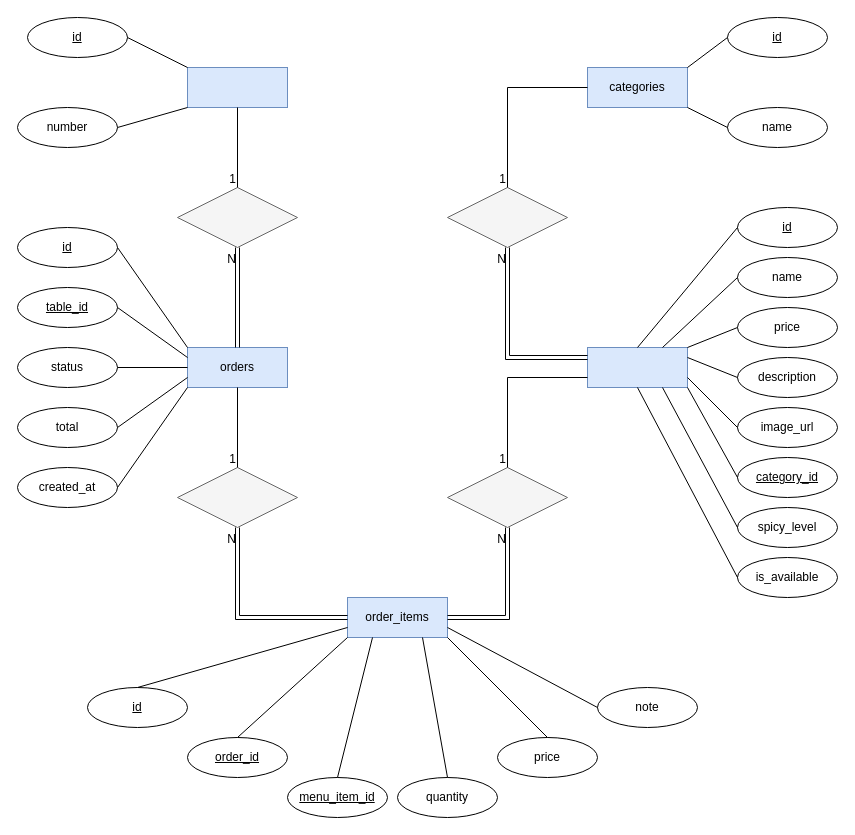
Some shapes in this 855 by 835 pixel diagram are drawn without their labels. Each missing label, with the centre of its shape:
"có" goes at pixel 507 217.
"gồm" goes at pixel 237 497.
"menu_items" goes at pixel 637 367.
"tables" goes at pixel 237 87.
"được đặt" goes at pixel 507 497.
"đặt" goes at pixel 237 217.
